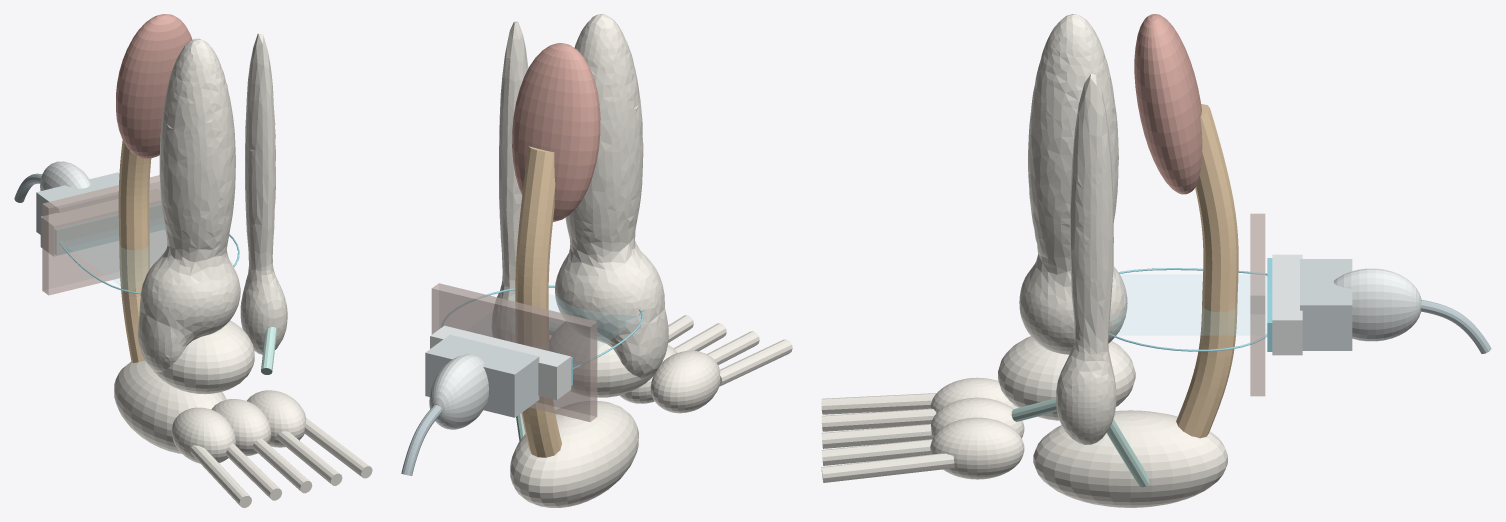
File: ankle-short.glb
3 views of the same model, side by side, from view 1: azimuth 30°, elevation 25°; view 2: azimuth 150°, elevation 25°; view 3: azimuth 270°, elevation 25° (orthographic). The views are drawn at different scales.
Parts seen in each view (by area): view 1: Tibia, Fibula, Local skin contact patch - surrounding skin omitted, Soleus - partial, Achilles tendon, Calcaneus, Talus, Illustrative imaging plane - not a simulated sonogram, Midfoot bone 1, Transducer body, Transducer acoustic face, Midfoot bone 2 (+9 smaller); view 2: Tibia, Soleus - partial, Calcaneus, Local skin contact patch - surrounding skin omitted, Achilles tendon, Fibula, Transducer body, Talus, Midfoot bone 1, Transducer grip, Transducer head, Illustrative imaging plane - not a simulated sonogram (+5 smaller); view 3: Tibia, Fibula, Calcaneus, Achilles tendon, Soleus - partial, Illustrative imaging plane - not a simulated sonogram, Talus, Transducer body, Transducer grip, Midfoot bone 3, Transducer head, Local skin contact patch - surrounding skin omitted (+10 smaller).
Boxes of the visible parts, box(x1,y1,x2,y2) form: Tibia: box(137, 38, 240, 372); Fibula: box(240, 33, 287, 354); Local skin contact patch - surrounding skin omitted: box(42, 175, 167, 295); Soleus - partial: box(116, 14, 192, 158); Achilles tendon: box(118, 140, 151, 362); Calcaneus: box(114, 360, 226, 453); Talus: box(153, 320, 254, 394); Illustrative imaging plane - not a simulated sonogram: box(68, 224, 233, 289); Midfoot bone 1: box(171, 407, 235, 463); Transducer body: box(36, 172, 119, 234); Transducer acoustic face: box(54, 203, 164, 254); Midfoot bone 2: box(211, 399, 271, 455); Tibia: box(555, 14, 668, 378); Soleus - partial: box(512, 43, 600, 221); Calcaneus: box(510, 401, 638, 507); Local skin contact patch - surrounding skin omitted: box(431, 283, 597, 421); Achilles tendon: box(515, 146, 561, 457); Fibula: box(492, 21, 528, 342); Transducer body: box(425, 335, 539, 417); Talus: box(550, 322, 658, 397); Midfoot bone 1: box(650, 350, 720, 413); Transducer grip: box(429, 354, 488, 429); Transducer head: box(430, 325, 571, 399); Illustrative imaging plane - not a simulated sonogram: box(509, 294, 640, 348); Tibia: box(1019, 14, 1127, 354); Fibula: box(1056, 73, 1116, 444); Calcaneus: box(1033, 410, 1227, 507); Achilles tendon: box(1176, 104, 1238, 438); Soleus - partial: box(1134, 14, 1202, 194); Illustrative imaging plane - not a simulated sonogram: box(1113, 275, 1266, 334); Talus: box(998, 336, 1135, 420); Transducer body: box(1300, 259, 1352, 350); Transducer grip: box(1333, 268, 1421, 341); Midfoot bone 3: box(930, 417, 1024, 479); Transducer head: box(1272, 254, 1302, 355); Local skin contact patch - surrounding skin omitted: box(1250, 213, 1265, 396).
Bounding box in the file's own units: 1.3 × 3.19 × 3.98.
